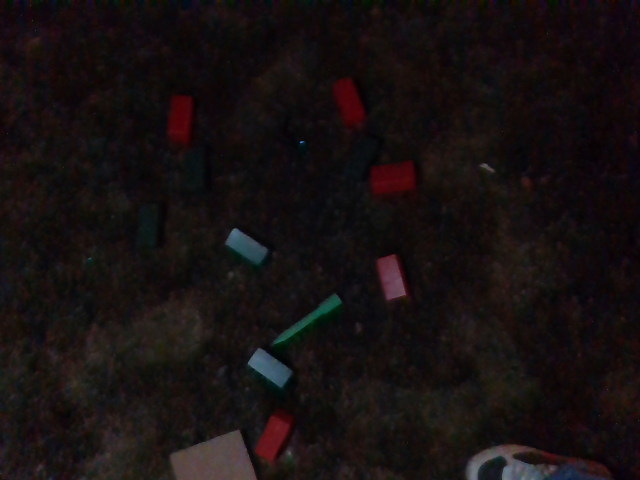Probe: (273, 285, 345, 347)
